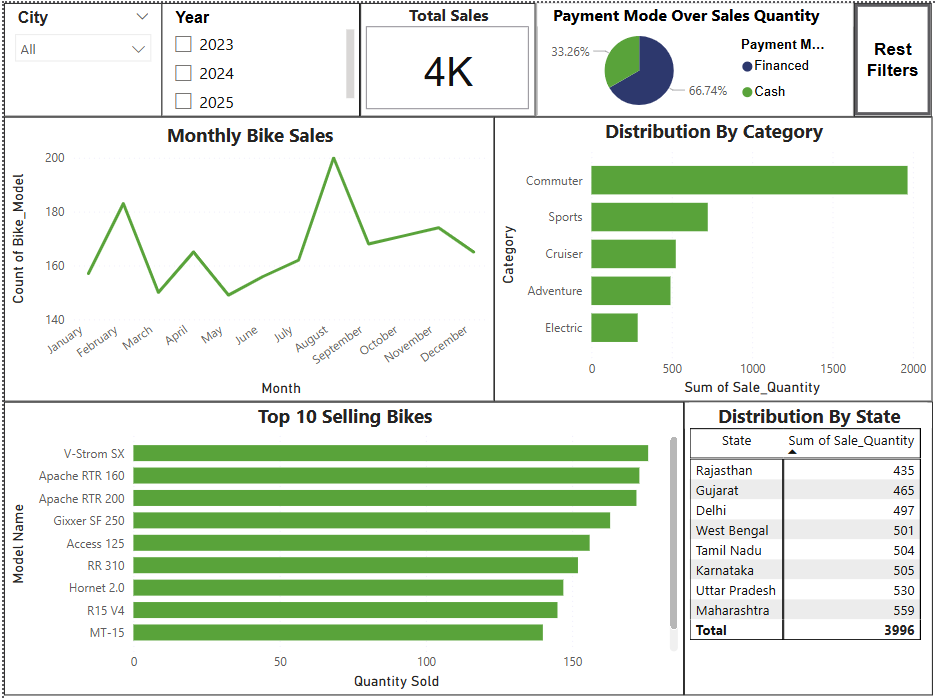

What the dashboard file says about the page in this screenshot:
{"tool":"powerbi","page":{"name":"Page 1","canvas":[1280,720],"ordinal":0},"visuals":[{"type":"barChart","title":"Top 10 Selling Bikes","fields":{"Category":["updated_motor_cycle_sale.Bike_Model"],"Y":["Sum(updated_motor_cycle_sale.Sale_Quantity)"]},"box":[0,398.8,680.2,293.8],"z":0},{"type":"slicer","fields":{"Values":["updated_motor_cycle_sale.City"]},"box":[0,0,158,113.6],"z":1000},{"type":"pivotTable","title":"Distribution By State","fields":{"Rows":["updated_motor_cycle_sale.State"],"Values":["Sum(updated_motor_cycle_sale.Sale_Quantity)"]},"box":[680,398.8,248.8,293.8],"z":2000},{"type":"pieChart","title":"Payment Mode Over Sales Quantity","fields":{"Category":["updated_motor_cycle_sale.Payment_Mode"],"Y":["Sum(updated_motor_cycle_sale.Sale_Quantity)"]},"box":[532.2,0,317.8,113.3],"z":3000},{"type":"lineChart","title":"Monthly Bike Sales","fields":{"Y":["CountNonNull(updated_motor_cycle_sale.Bike_Model)"],"Category":["updated_motor_cycle_sale.sale_date.Variation.Date Hierarchy.Month"]},"box":[0,113.6,490.1,285.2],"z":4000},{"type":"barChart","title":"Distribution By Category","fields":{"Category":["updated_motor_cycle_sale.Bike_Category"],"Y":["Sum(updated_motor_cycle_sale.Sale_Quantity)"]},"box":[490.1,113.6,438.3,285.2],"z":5000},{"type":"slicer","fields":{"Values":["updated_motor_cycle_sale.sale_date.Variation.Date Hierarchy.Year"]},"box":[158,0,198.8,113.6],"z":6000},{"type":"cardVisual","title":"Total Sales","fields":{"Data":["Sum(updated_motor_cycle_sale.Sale_Quantity)"]},"box":[356.8,0,175.3,113.6],"z":7000},{"type":"actionButton","title":"Rest Filters","box":[850,0,77.8,113.3],"z":7002}]}

Visuals, with their boxes in screenshot pixels (x1, y1, x2, y2):
"Top 10 Selling Bikes" barChart: x1=0, y1=400, x2=491, y2=612
slicer - updated_motor_cycle_sale.City: x1=0, y1=112, x2=114, y2=194
"Distribution By State" pivotTable: x1=491, y1=400, x2=671, y2=612
"Payment Mode Over Sales Quantity" pieChart: x1=384, y1=112, x2=614, y2=194
"Monthly Bike Sales" lineChart: x1=0, y1=194, x2=354, y2=400
"Distribution By Category" barChart: x1=354, y1=194, x2=670, y2=400
slicer - updated_motor_cycle_sale.sale_date.Variation.Date Hierarchy.Year: x1=114, y1=112, x2=258, y2=194
"Total Sales" cardVisual: x1=258, y1=112, x2=384, y2=194
"Rest Filters" actionButton: x1=614, y1=112, x2=670, y2=194
